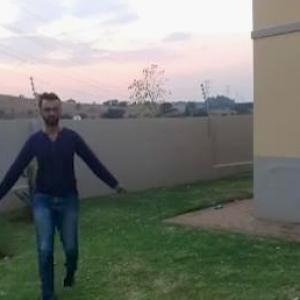land: (1, 88, 118, 299)
